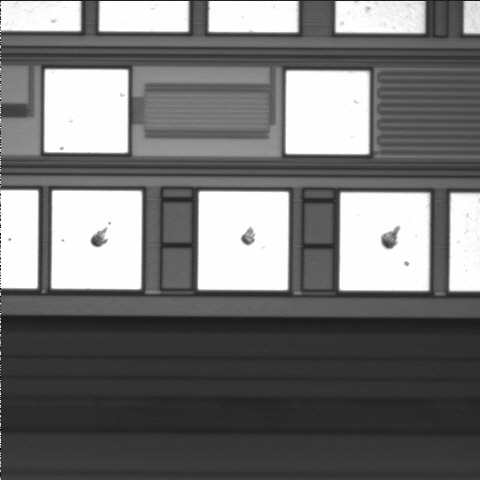pad: (198, 191, 289, 290), (51, 191, 142, 289), (340, 193, 430, 291), (44, 69, 128, 153), (286, 71, 369, 154)
